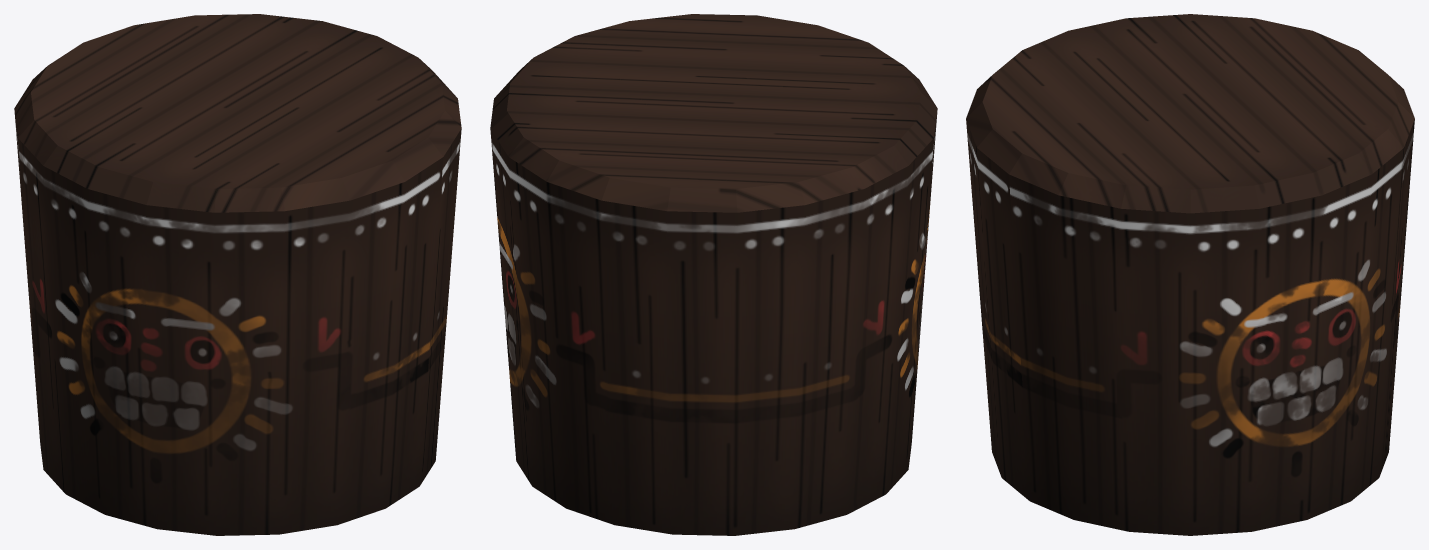
Rendered from SM_Totem_01.FBX.
The picture shows the model from 3 angles, left to right: view 1: azimuth 30°, elevation 25°; view 2: azimuth 150°, elevation 25°; view 3: azimuth 270°, elevation 25°; orthographic projection.
Parts seen in each view (by area): view 1: Totem01; view 2: Totem01; view 3: Totem01.
Boxes of the visible parts, left/top/right/bottom form: Totem01: left=14, top=14, right=461, bottom=535; Totem01: left=490, top=14, right=937, bottom=535; Totem01: left=966, top=14, right=1414, bottom=535.
Size of the model in its own units: 675 by 675 by 581.
